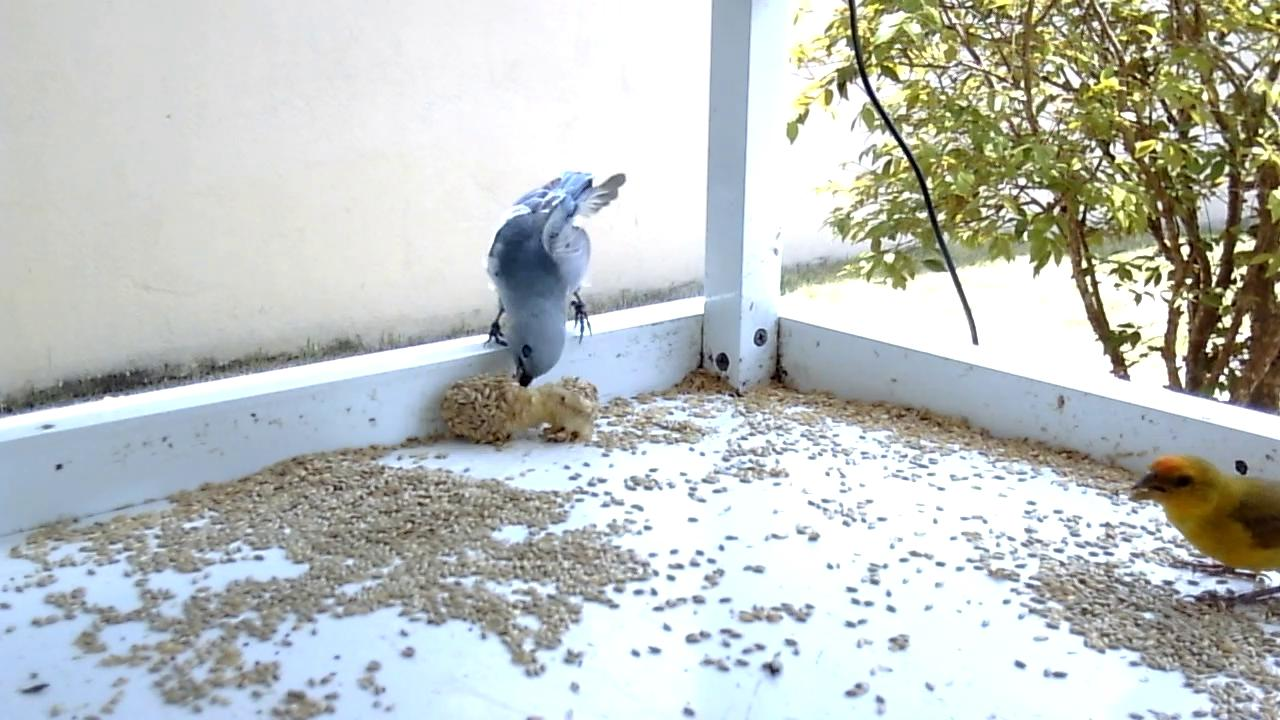canario_do_amazonas: (1131, 452, 1280, 608)
sanhaco_da_amazonia: (485, 171, 630, 389)
